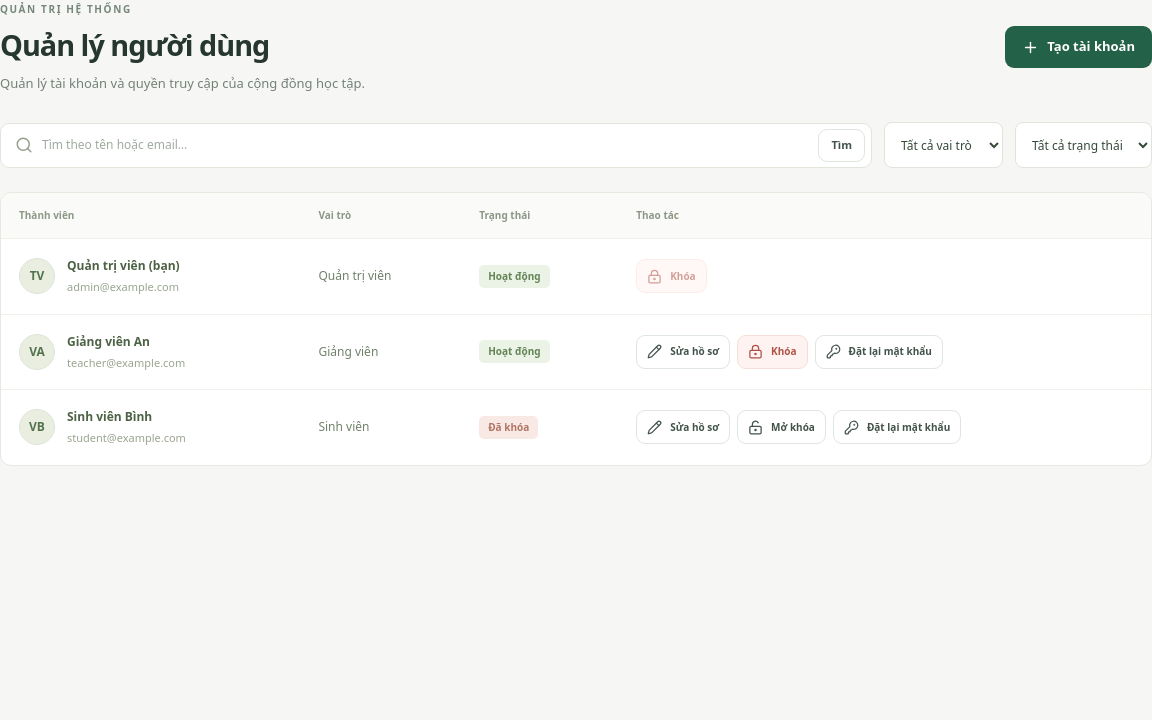
keeps the edited profile open when the server rejects a duplicate email
Click the button "Sửa hồ sơ" in the row of "Giảng viên An" at (683, 352), box x1=636 y1=335 x2=730 y2=369
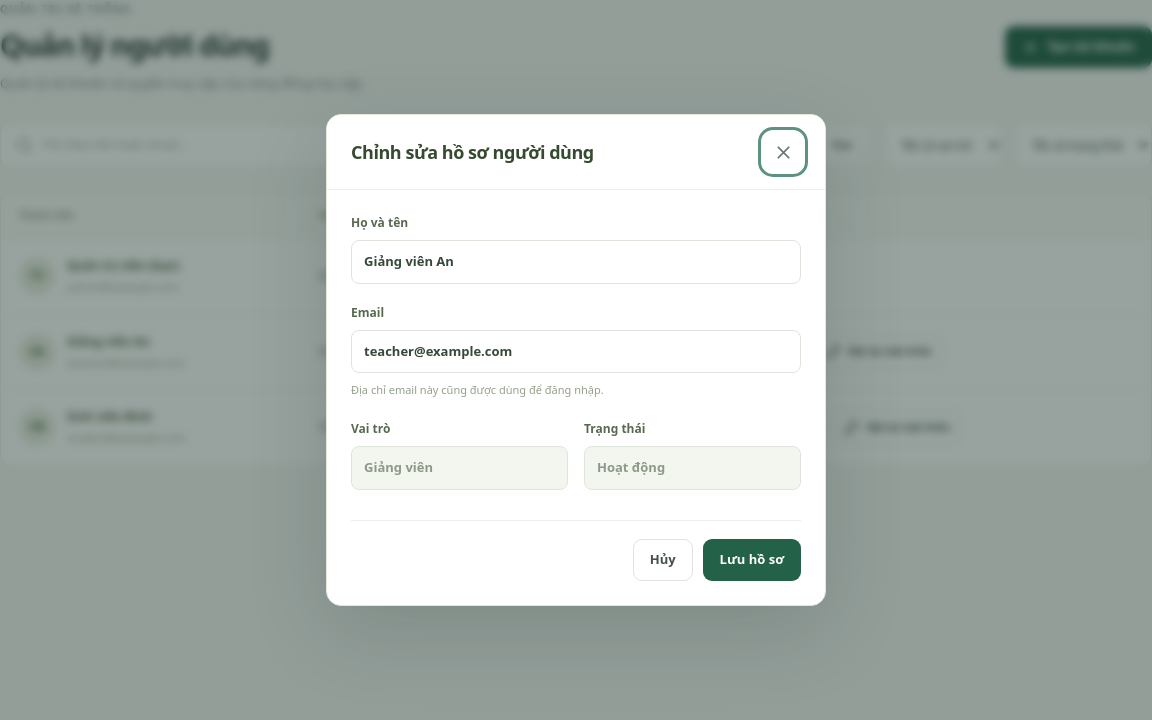
Replace the text in the field labelled "Email" with "student@example.com" at (576, 352), box x1=351 y1=330 x2=801 y2=373
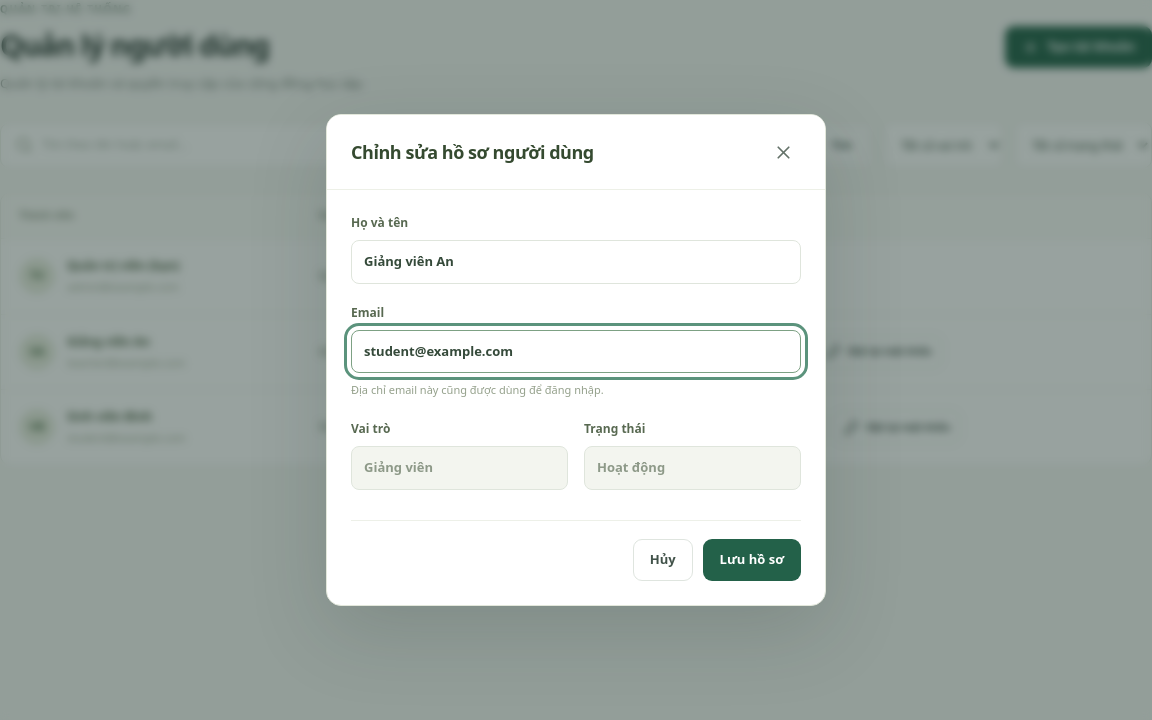
Click the button "Lưu hồ sơ" at (752, 560), box x1=703 y1=539 x2=801 y2=581
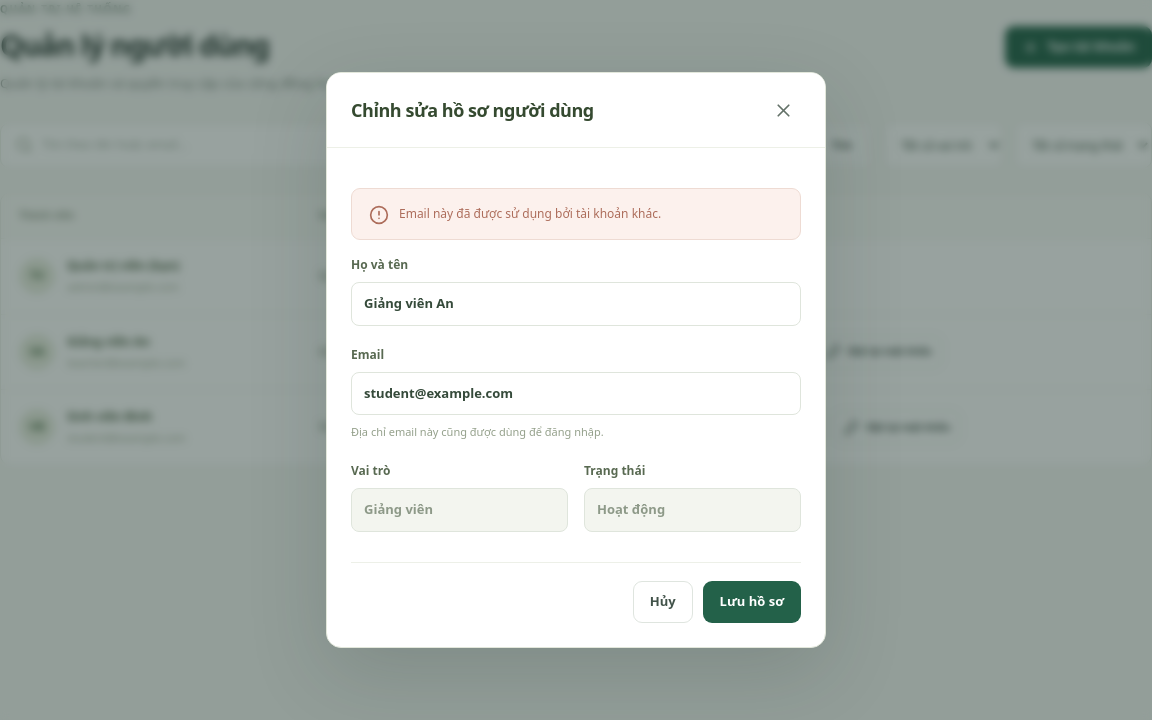
Check: the dialog is shown, box x1=326 y1=72 x2=826 y2=648
Check: the message shows "Email này đã được sử dụng", box x1=399 y1=205 x2=661 y2=222
